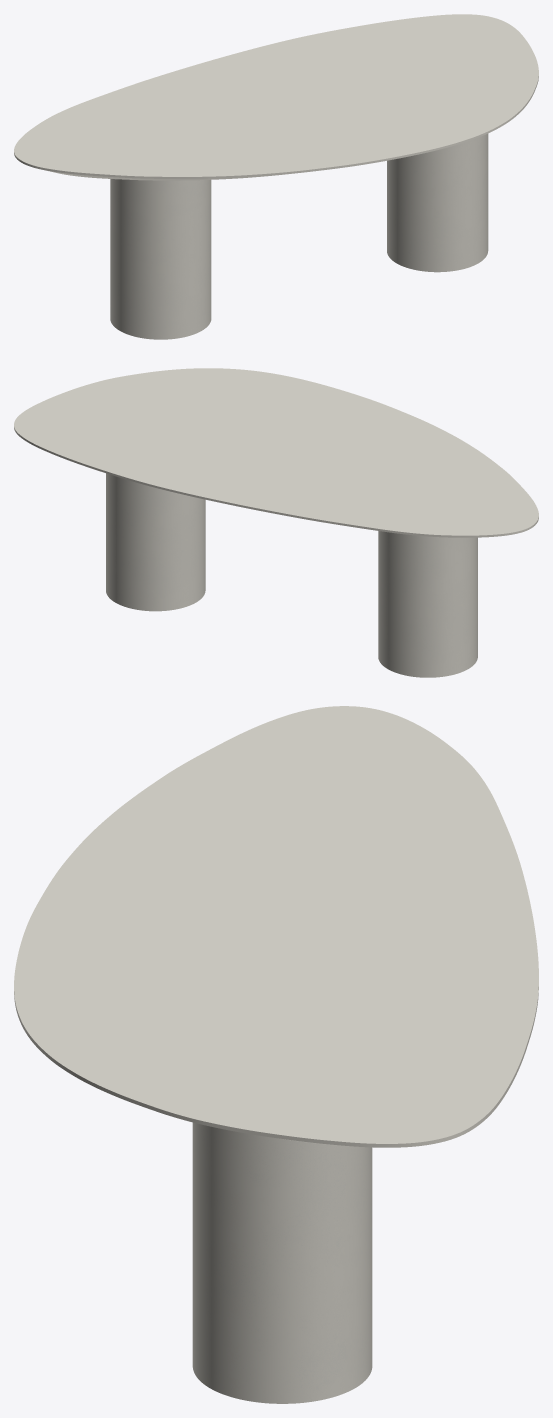
Rendered from pale_pebbletop_facet_stream.glb.
3 renders of one model, top to bottom at view 1: azimuth 30°, elevation 25°; view 2: azimuth 150°, elevation 25°; view 3: azimuth 270°, elevation 25°, orthographic. The views are drawn at different scales.
Parts seen in each view (by area): view 1: facet_pebbletop, stream; view 2: facet_pebbletop, stream; view 3: facet_pebbletop, stream.
Boxes of the visible parts, <box> form: facet_pebbletop: <box>14,14,538,180</box>; stream: <box>110,133,488,339</box>; facet_pebbletop: <box>14,368,538,537</box>; stream: <box>106,473,477,677</box>; facet_pebbletop: <box>14,706,538,1147</box>; stream: <box>192,1122,372,1403</box>.
Bounding box in the file's own units: 7.5 × 2.5 × 3.8.
Materials: 1 (1 with a texture image).
